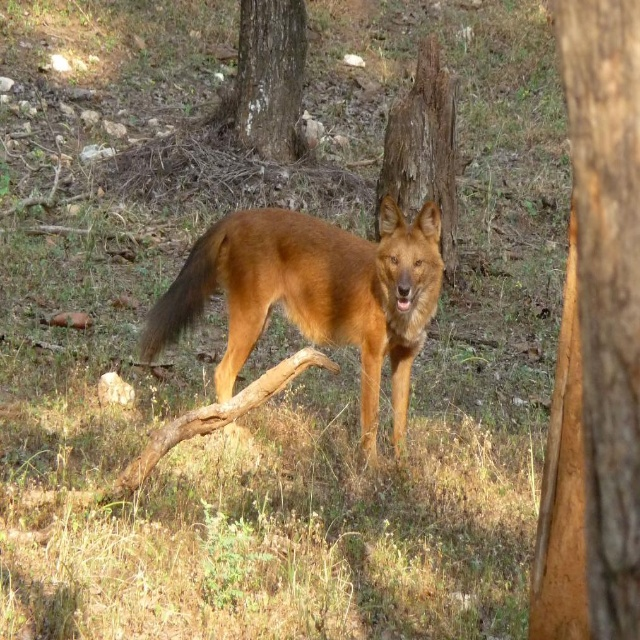Fox: (138, 196, 446, 475)
